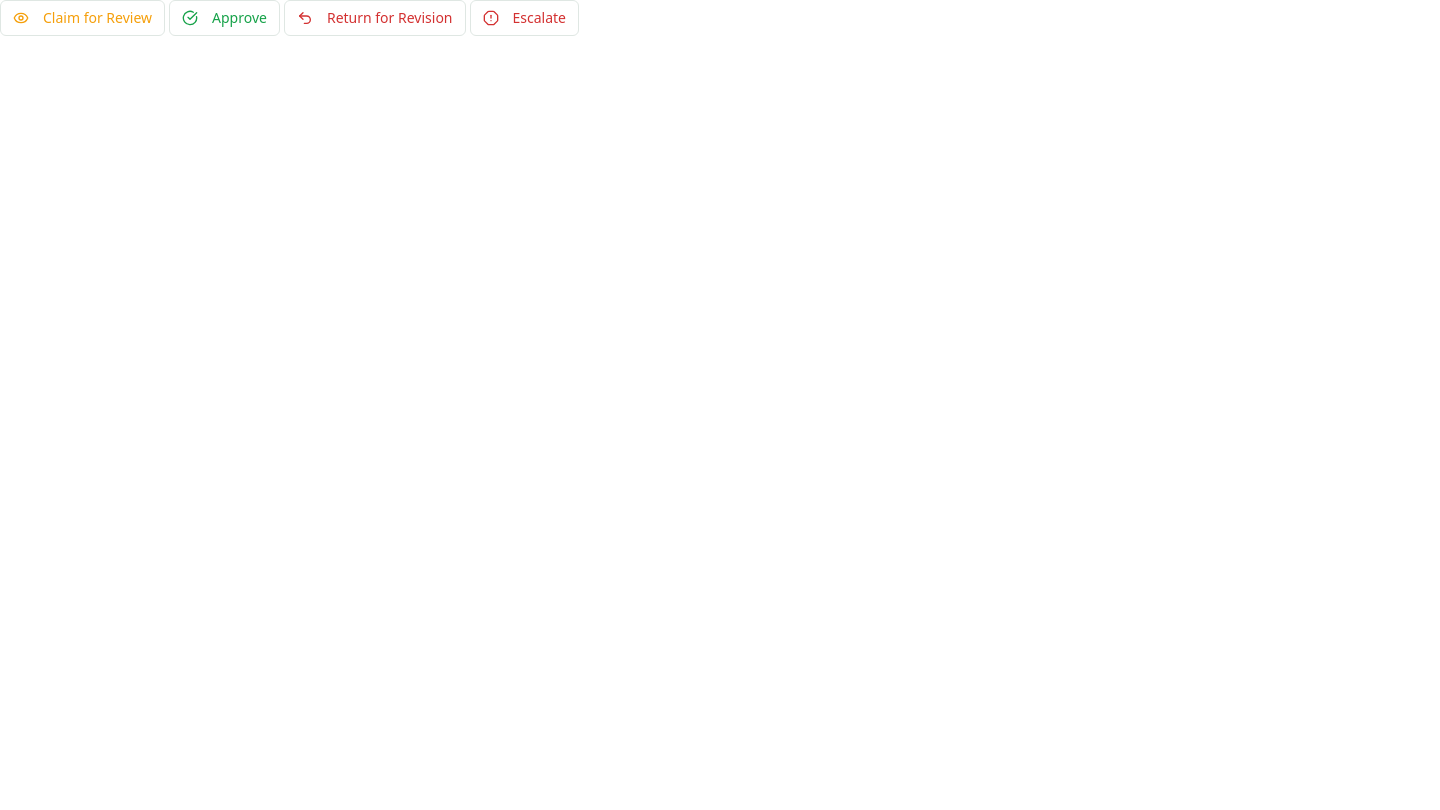
Test: RiskWorkflowActions › requires a minimum-length reason before confirming an approve action
Click the button "Claim for Review": click(82, 18) left=0, top=0, right=165, bottom=36
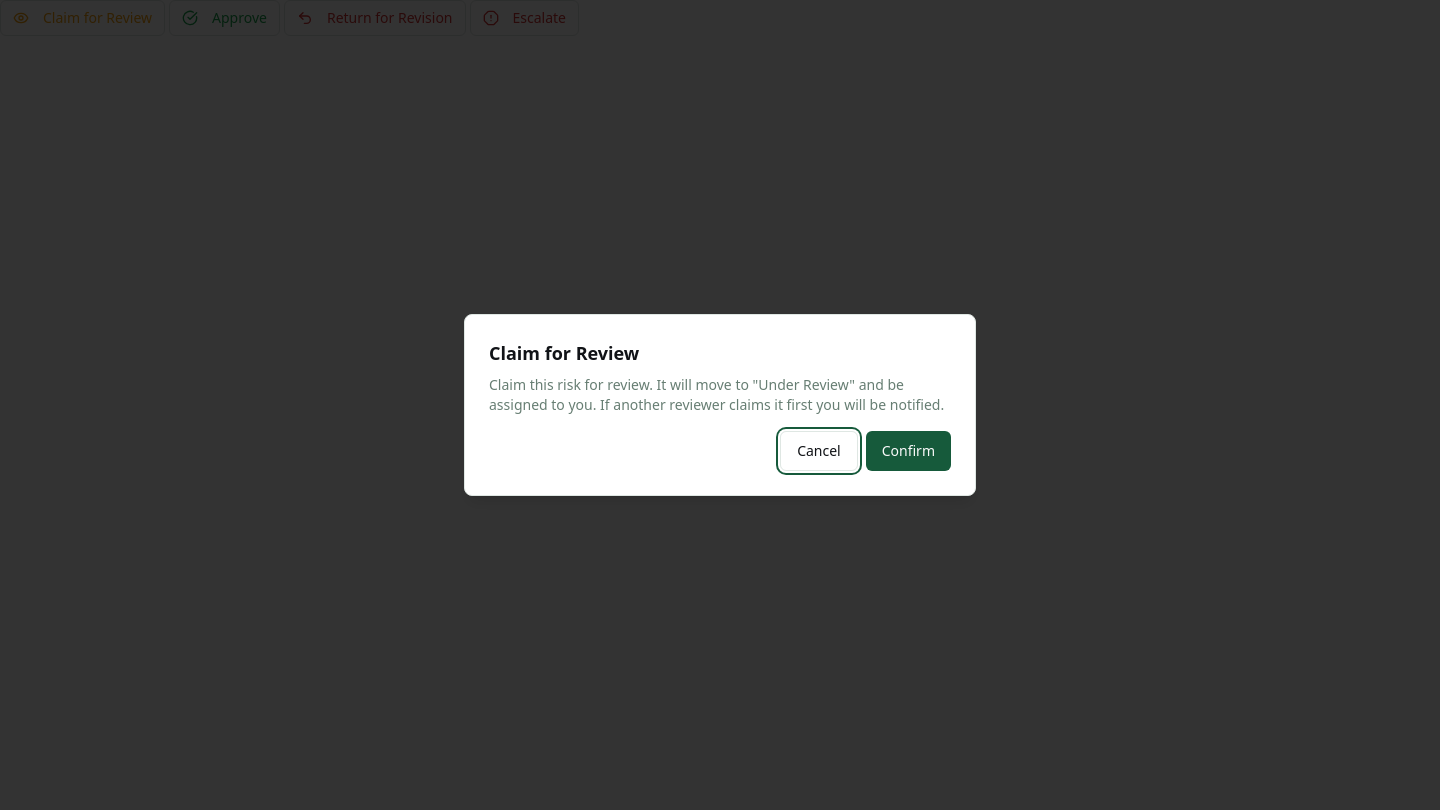
Check: the button "Confirm" is enabled, box left=866, top=431, right=951, bottom=471
